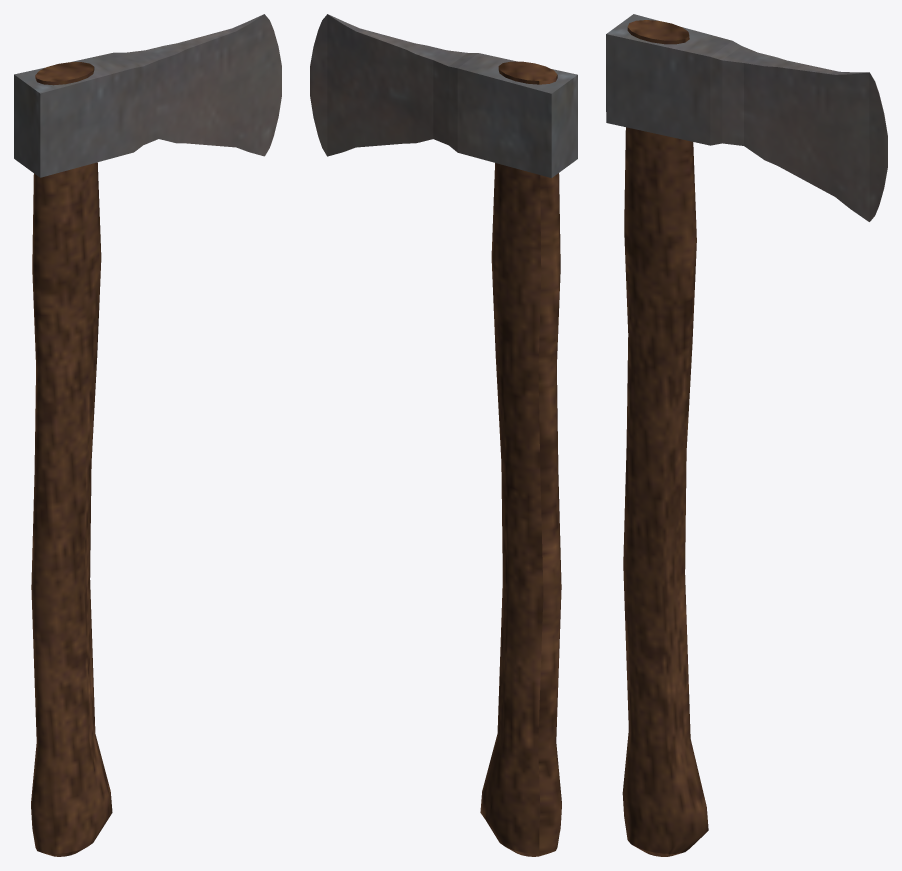
Rendered from One hand axe.fbx.
3 renders of one model, left to right at view 1: azimuth 30°, elevation 25°; view 2: azimuth 150°, elevation 25°; view 3: azimuth 330°, elevation 25°, orthographic. The views are drawn at different scales.
Visible parts, largest first — view 1: One_hand_axe; view 2: One_hand_axe; view 3: One_hand_axe.
Boxes of the visible parts, x1,y1,x2,y2 form: One_hand_axe: (14,14,281,856); One_hand_axe: (310,14,577,856); One_hand_axe: (606,14,887,856).
Bounding box in the file's own units: 0.2831 × 0.8399 × 0.0503.
